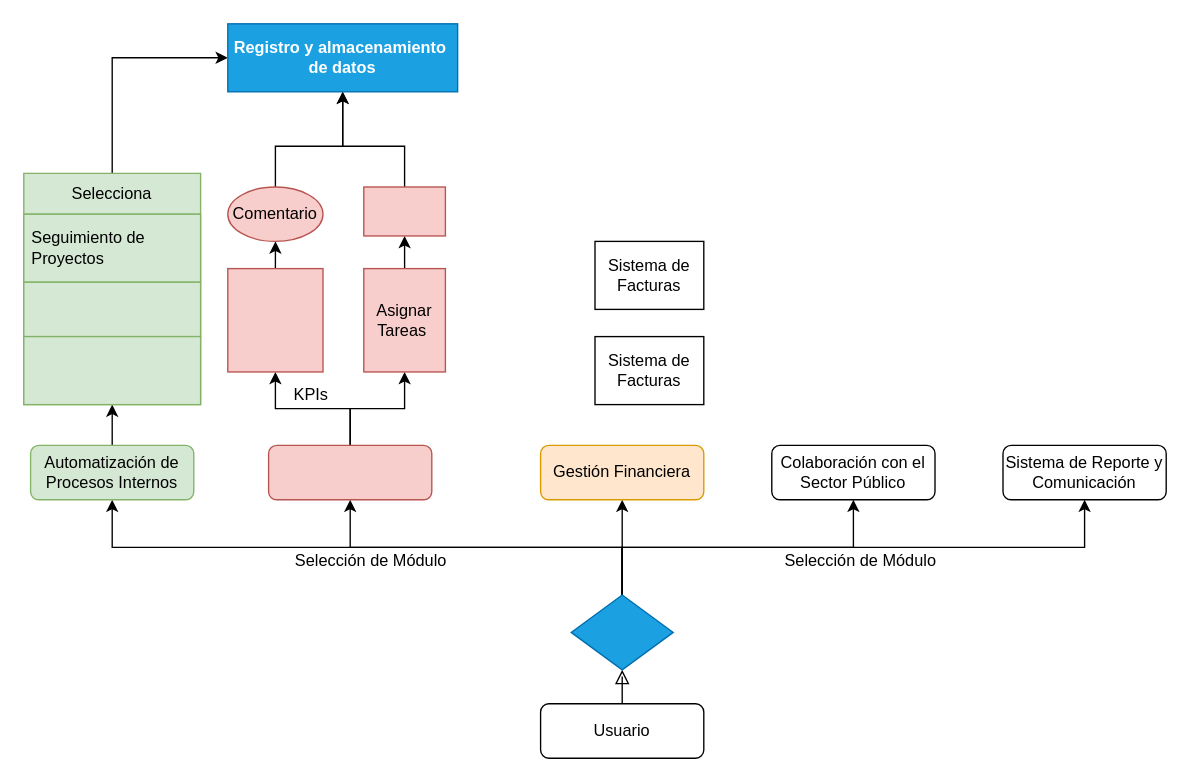
This 1190x782 diagram has some shape labels left out. The shapes that lost their labels are listed below. From the top down, each one's centre as x and y in pixels, then its label:
At point (403, 211): "Plazo de Entrega".
At point (111, 309): "Gestión de Recursos y activos".
At point (274, 319): "Evaluar desempeño de los empleados".
At point (111, 370): "Aprobación de documentos internos".
At point (349, 472): "Gestión de Recursos Humanos".
At point (621, 632): "LOGIN".
